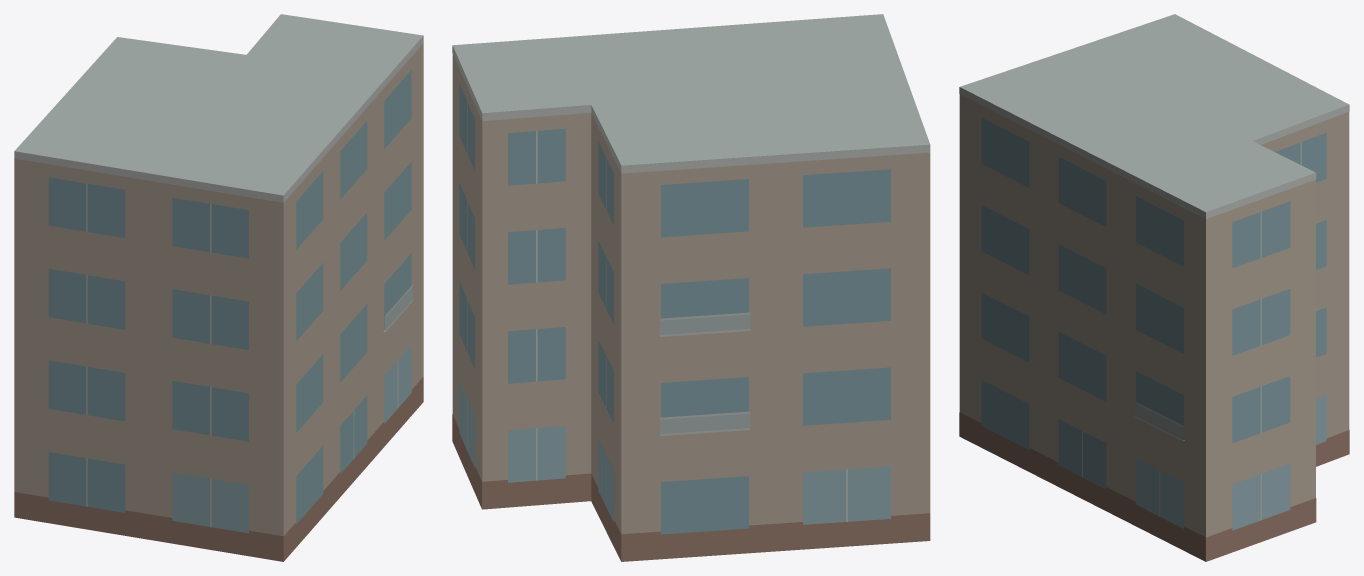
The model's file is survey-upis-32967171.glb.
3 views of the same model, side by side, from view 1: azimuth 30°, elevation 25°; view 2: azimuth 150°, elevation 25°; view 3: azimuth 270°, elevation 25° (orthographic). The views are drawn at different scales.
Visible parts, largest first — view 1: survey-upis-32967171.tmp; view 2: survey-upis-32967171.tmp; view 3: survey-upis-32967171.tmp.
Part boxes in pixels (bbox=[...]): survey-upis-32967171.tmp: bbox=[14, 14, 423, 561]; survey-upis-32967171.tmp: bbox=[452, 14, 930, 561]; survey-upis-32967171.tmp: bbox=[959, 14, 1349, 561].
Bounding box in the file's own units: 14.84 × 12.2 × 12.34.
